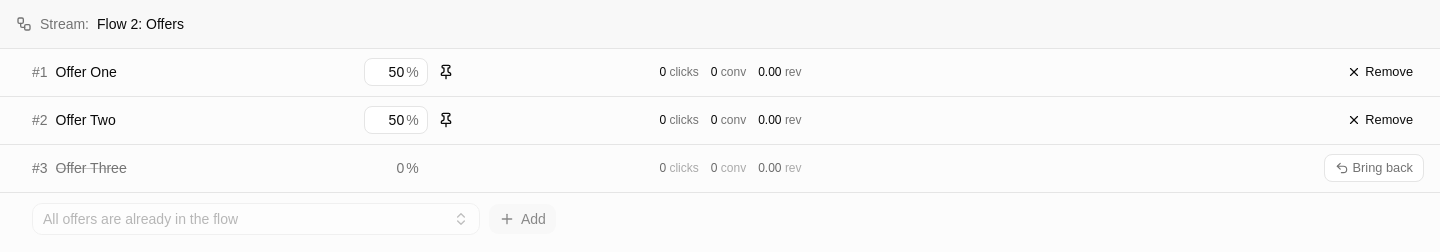
Test: OfferStreamRows › remove -> recalculates, highlights, pushes to Keitaro
The image size is (1440, 252).
Later steps or results of the test are not shown.
Click the button "Remove" in the row of "Offer One": (1380, 72) x1=1336 y1=58 x2=1424 y2=86
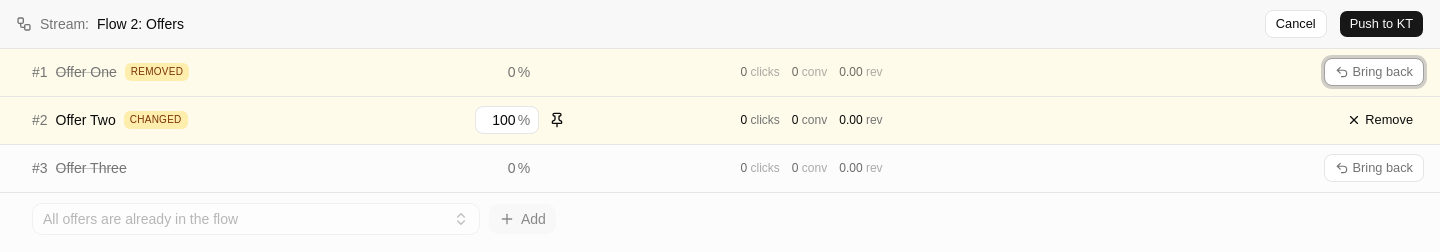
Now the button "Bring back" in the row of "Offer One" is shown, box x1=1324 y1=58 x2=1424 y2=86
